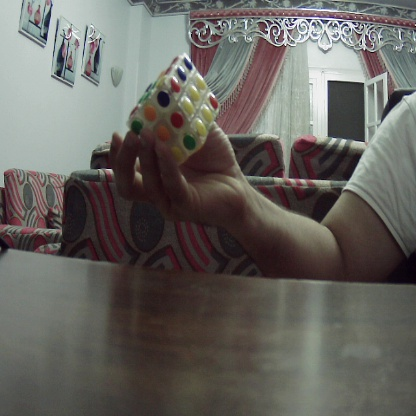Rubix Cube: (132, 60, 221, 160)
